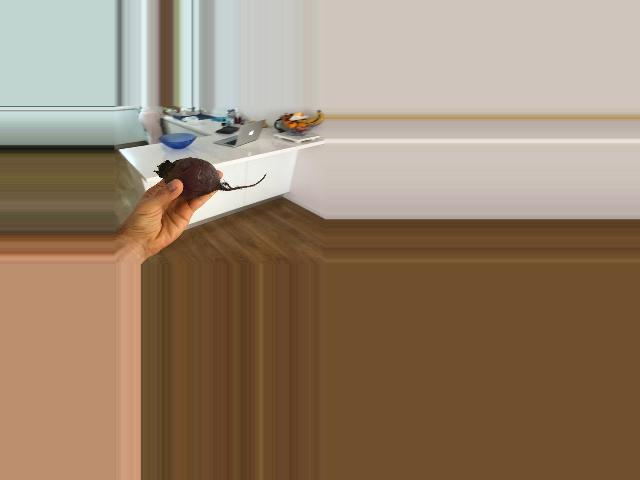beet: (155, 158, 266, 197)
